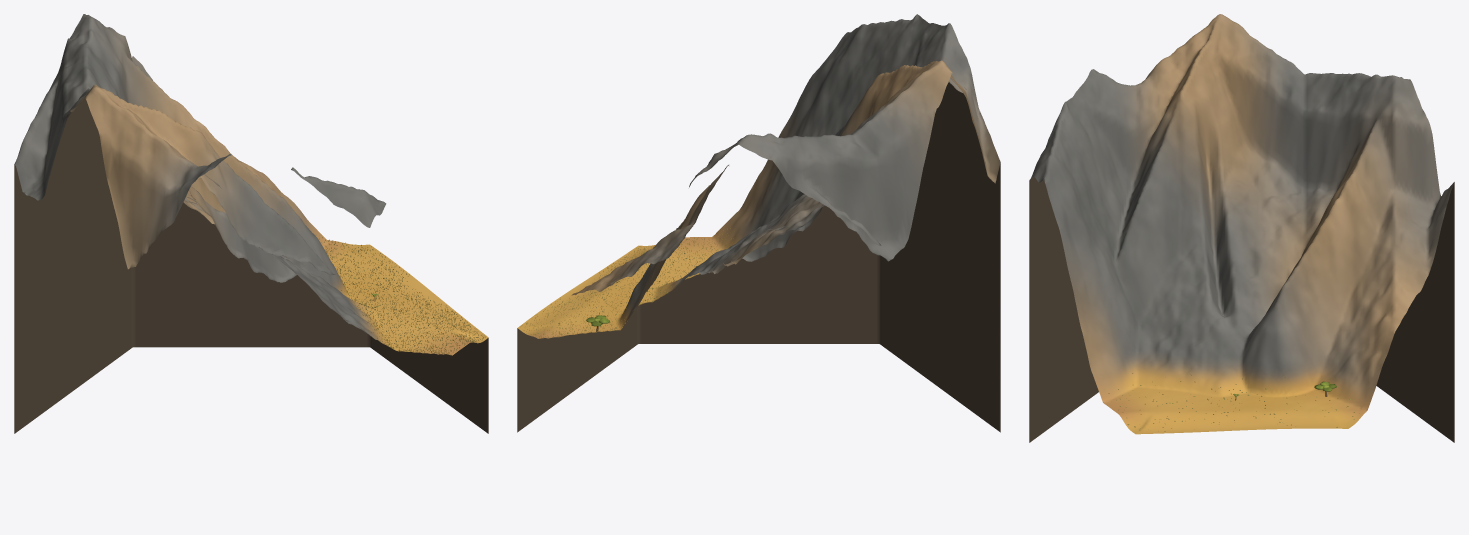
3 views of the same model, side by side, from view 1: azimuth 30°, elevation 25°; view 2: azimuth 150°, elevation 25°; view 3: azimuth 270°, elevation 25° (orthographic). The views are drawn at different scales.
Visible parts, largest first — view 1: hex_side_cut, terrain, SV4_W_wildflowers; view 2: hex_side_cut, terrain, SV4_W_wildflowers; view 3: terrain, hex_side_cut.
Part boxes in pixels (left/top/right/bottom): hex_side_cut: left=14, top=99, right=488, bottom=433; terrain: left=14, top=14, right=488, bottom=355; SV4_W_wildflowers: left=309, top=228, right=485, bottom=354; hex_side_cut: left=517, top=82, right=1000, bottom=432; terrain: left=518, top=14, right=1000, bottom=338; SV4_W_wildflowers: left=520, top=226, right=734, bottom=338; terrain: left=1030, top=14, right=1454, bottom=434; hex_side_cut: left=1029, top=177, right=1454, bottom=442.
Size of the model in its own units: 4330 by 4616 by 5000.
